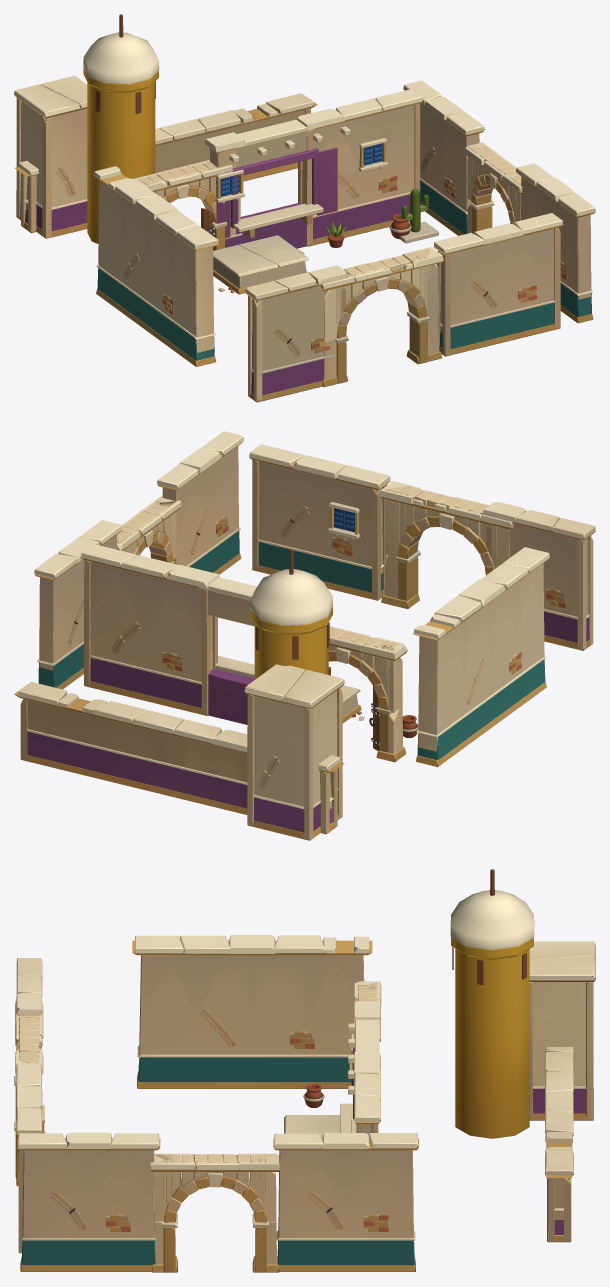
File: b_court.glb
The picture shows the model from 3 angles, top to bottom: view 1: azimuth 30°, elevation 25°; view 2: azimuth 150°, elevation 25°; view 3: azimuth 270°, elevation 25°; orthographic projection. The views are drawn at different scales.
Visible parts, largest first — view 1: b_court; view 2: b_court; view 3: b_court.
Part boxes in pixels (x1,y1,x2,y2): b_court: (14,14,595,402); b_court: (14,431,595,840); b_court: (14,869,595,1272).
Bounding box in the file's own units: 16.4 × 9.85 × 20.48.
